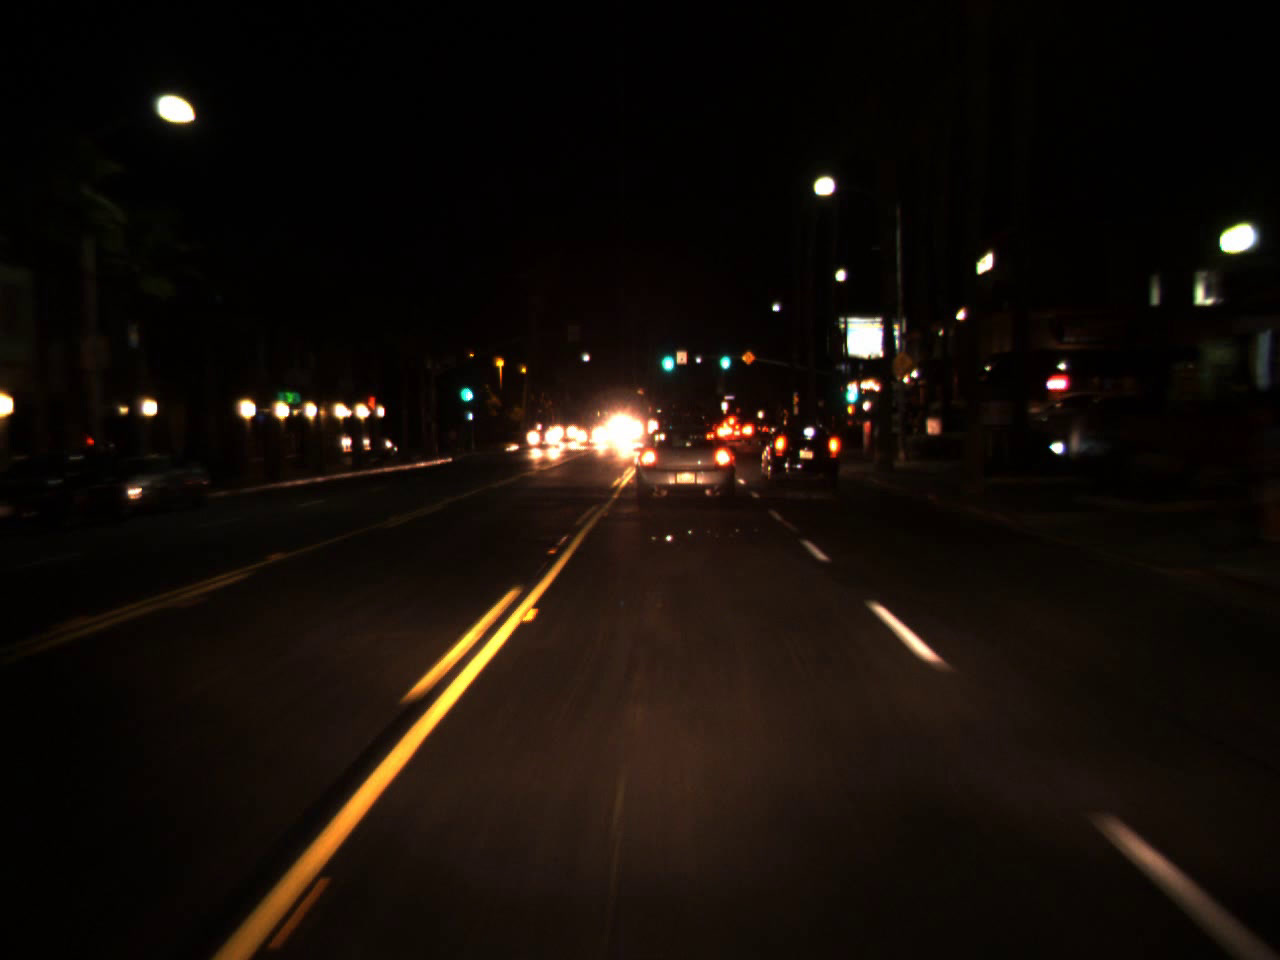go: (657, 337, 675, 376), (840, 373, 859, 406), (458, 371, 472, 407), (716, 340, 728, 373)
